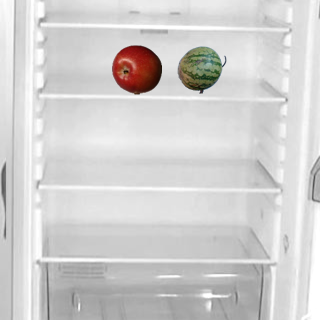Apple Braeburn: (111, 44, 161, 94)
Watermelon: (176, 44, 226, 94)
